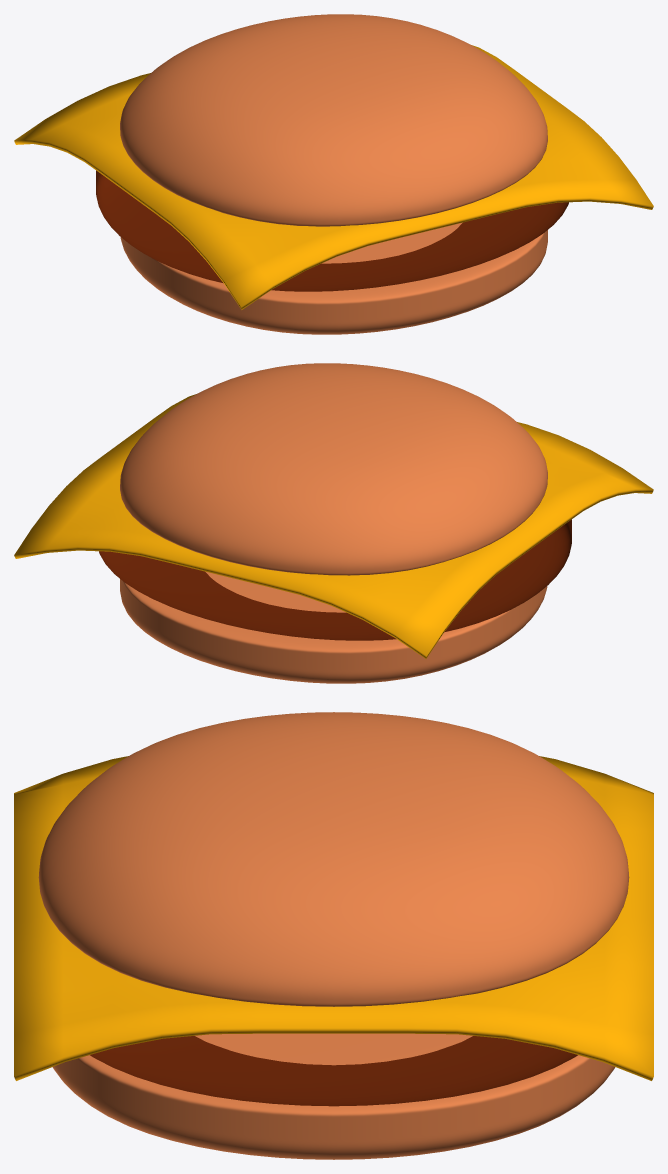
File: hamburger.glb
The picture shows the model from 3 angles, top to bottom: view 1: azimuth 30°, elevation 25°; view 2: azimuth 150°, elevation 25°; view 3: azimuth 270°, elevation 25°; orthographic projection. The views are drawn at different scales.
Parts seen in each view (by area): view 1: top bun, Plane, bottom bun, meat; view 2: top bun, Plane, bottom bun, meat; view 3: top bun, Plane, bottom bun, meat.
Part boxes in pixels (left/top/right/bottom): top bun: left=120, top=14, right=547, bottom=226; Plane: left=14, top=45, right=653, bottom=309; bottom bun: left=120, top=222, right=547, bottom=334; meat: left=96, top=170, right=568, bottom=291; top bun: left=120, top=363, right=547, bottom=575; Plane: left=14, top=394, right=653, bottom=658; bottom bun: left=120, top=571, right=547, bottom=683; meat: left=99, top=519, right=571, bottom=640; top bun: left=38, top=712, right=629, bottom=1006; Plane: left=14, top=756, right=653, bottom=1080; bottom bun: left=52, top=1033, right=615, bottom=1159; meat: left=90, top=1036, right=577, bottom=1106.
Bounding box in the file's own units: 6.97 × 3.35 × 6.65.
